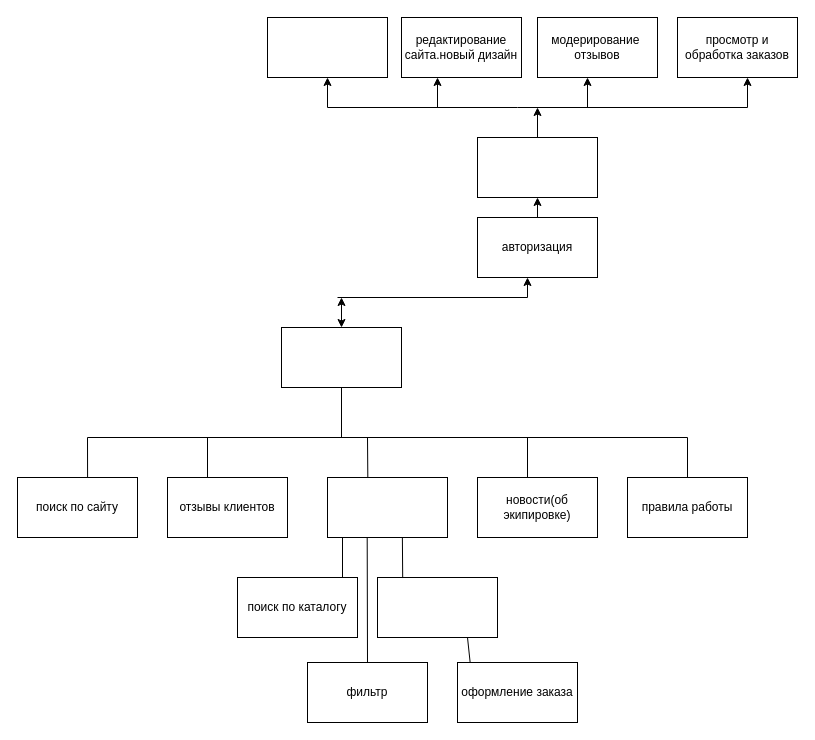
Image size: 815x740. Some labels were removed from this diagram. The shapes that lost their labels are listed below. From the top down, each one's centre as x and y in pixels, then its label:
(327,47): добавление\ редактирование экипировки
(537,167): личный кабинет администратора
(341,357): структура сайта
(387,507): просмотр каталогов экипировки
(437,607): добавление в корзину(экипировки)
